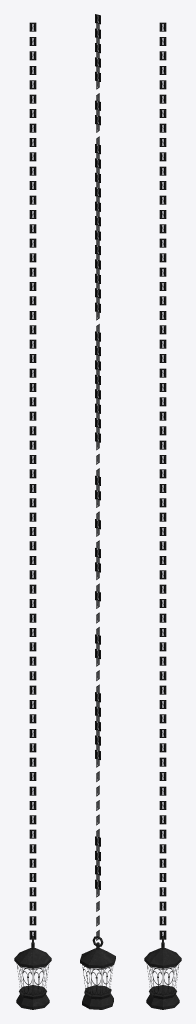
The model's file is lantern.glb.
3 views of the same model, side by side, from view 1: azimuth 90°, elevation 25°; view 2: azimuth 150°, elevation 25°; view 3: azimuth 270°, elevation 25° (orthographic).
Parts seen in each view (by area): view 1: Cylinder; view 2: Cylinder; view 3: Cylinder.
Part boxes in pixels (x1,y1,x2,y2): Cylinder: (14, 22, 51, 1009); Cylinder: (80, 14, 115, 1009); Cylinder: (144, 22, 181, 1009).
Bounding box in the file's own units: 1.12 × 32.89 × 1.12.
Materials: 3 (3 with a texture image).
